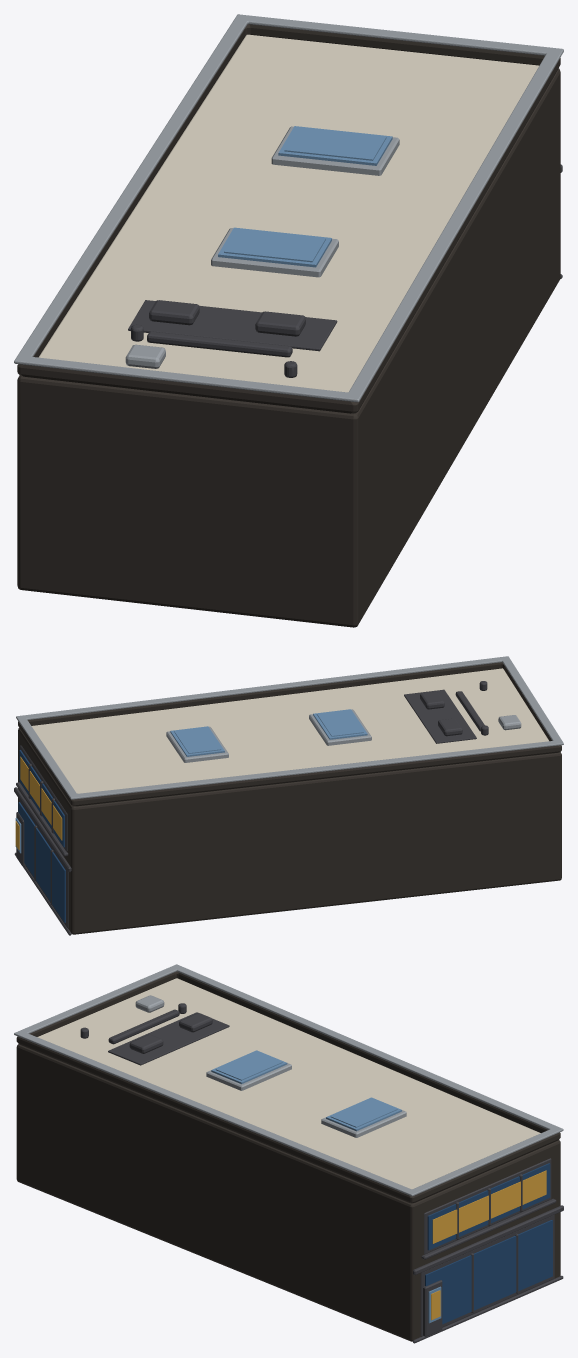
The model's file is 560-third.optimized.glb.
The picture shows the model from 3 angles, top to bottom: view 1: azimuth 30°, elevation 25°; view 2: azimuth 150°, elevation 25°; view 3: azimuth 270°, elevation 25°; orthographic projection. The views are drawn at different scales.
Visible parts, largest first — view 1: grp_Toy_ink, membrane, grp_Toy_steel, grp_Toy_roofd, grp_Toy_glassl_Glow, grp_Toy_glassl; view 2: grp_Toy_ink, membrane, grp_Toy_steel, grp_Toy_roofd, grp_Toy_glass, grp_Toy_glassl_Glow, grp_Toy_mustard_Glow, grp_Toy_glassl; view 3: grp_Toy_ink, membrane, grp_Toy_steel, grp_Toy_roofd, grp_Toy_glass, grp_Toy_mustard_Glow, grp_Toy_glassl_Glow, grp_Toy_glassl.
Boxes of the visible parts, x1,y1,x2,y2 form: grp_Toy_ink: (17, 24, 560, 627); membrane: (38, 34, 538, 392); grp_Toy_steel: (14, 14, 563, 402); grp_Toy_roofd: (128, 164, 562, 377); grp_Toy_glassl_Glow: (224, 127, 386, 262); grp_Toy_glassl: (218, 126, 392, 267); grp_Toy_ink: (18, 662, 561, 934); membrane: (31, 668, 548, 793); grp_Toy_steel: (16, 656, 563, 799); grp_Toy_roofd: (14, 681, 488, 935); grp_Toy_glass: (18, 750, 65, 922); grp_Toy_glassl_Glow: (174, 710, 363, 753); grp_Toy_mustard_Glow: (15, 756, 62, 850); grp_Toy_glassl: (15, 709, 367, 853); grp_Toy_ink: (16, 971, 560, 1341); membrane: (37, 978, 540, 1189); grp_Toy_steel: (14, 964, 563, 1196); grp_Toy_roofd: (80, 1003, 563, 1343); grp_Toy_glass: (425, 1163, 552, 1324); grp_Toy_mustard_Glow: (431, 1170, 546, 1320); grp_Toy_glassl_Glow: (215, 1051, 397, 1127); grp_Toy_glassl: (211, 1050, 441, 1323).
Size of the model in its own units: 23.9 by 7.2 by 24.06.
